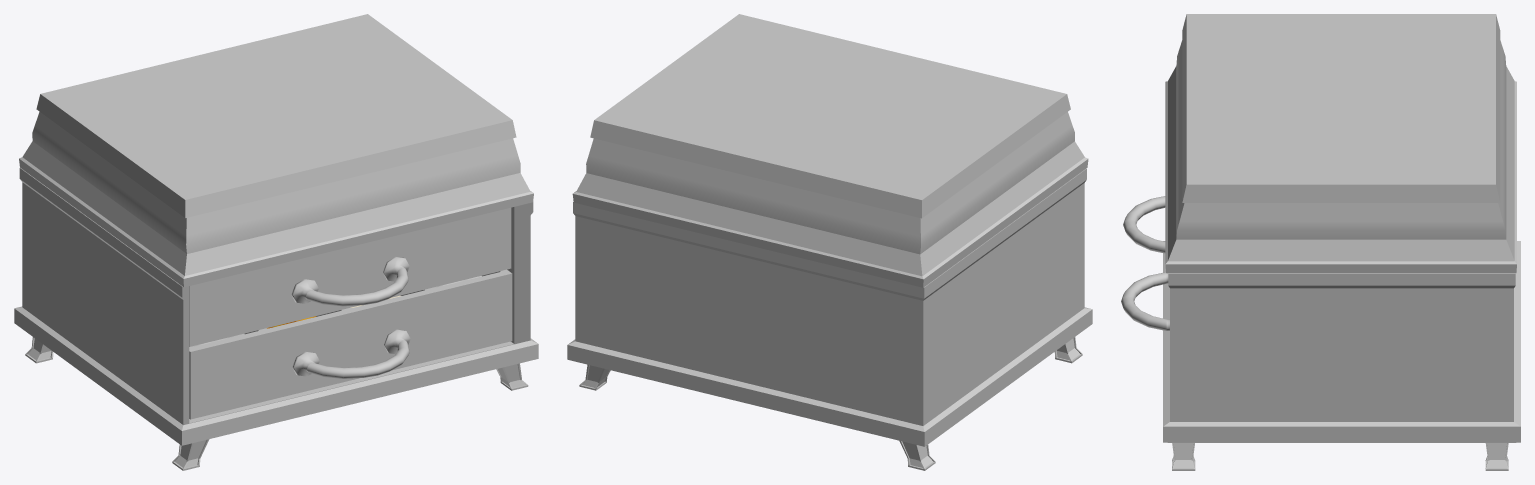
The model's file is BOXbignice nice finall (1).fbx.
3 renders of one model, left to right at view 1: azimuth 30°, elevation 25°; view 2: azimuth 150°, elevation 25°; view 3: azimuth 270°, elevation 25°, orthographic. The views are drawn at different scales.
Visible parts, largest first — view 1: Plane.083, Cube.015, Cube.010, Cube.011, Plane.087, Plane.084; view 2: Plane.083, Cube.015, Plane.085; view 3: Plane.083, Cube.015, Cube.010, Cube.011, Plane.084, Plane.089.
Boxes of the visible parts, box(x1,y1,x2,y2) form: Plane.083: box(19, 14, 533, 287); Cube.015: box(14, 167, 538, 445); Cube.010: box(189, 269, 512, 419); Cube.011: box(189, 207, 511, 346); Plane.087: box(172, 439, 209, 470); Plane.084: box(496, 363, 528, 390); Plane.083: box(572, 14, 1088, 287); Cube.015: box(567, 168, 1092, 446); Plane.085: box(899, 441, 935, 470); Plane.083: box(1165, 14, 1516, 273); Cube.015: box(1163, 241, 1520, 442); Cube.010: box(1121, 272, 1169, 330); Cube.011: box(1123, 196, 1165, 253); Plane.084: box(1172, 443, 1195, 470); Plane.089: box(1485, 443, 1508, 470).
Bounding box in the file's own units: 313 × 221 × 284.
